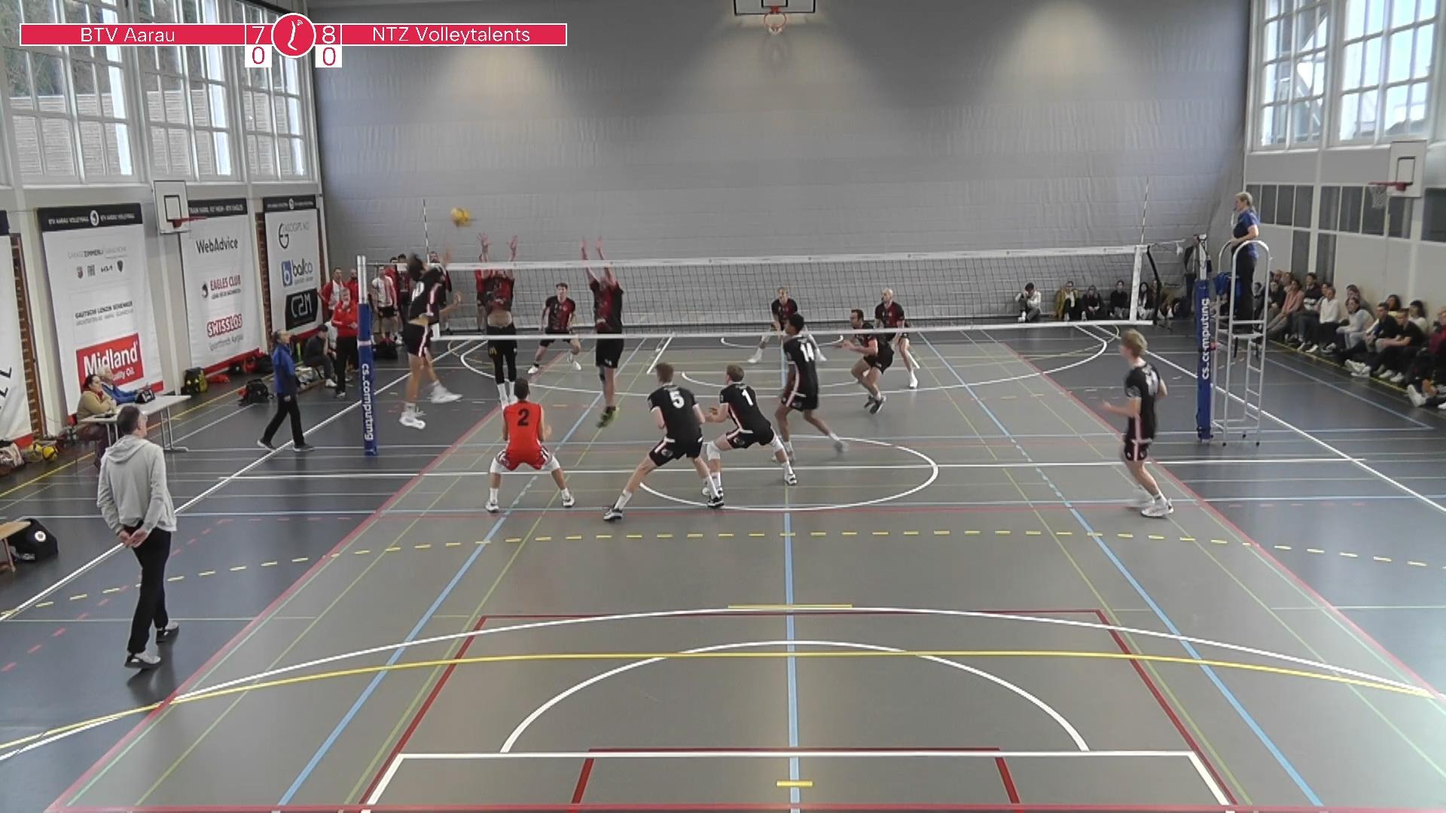attacco: (387, 236, 467, 430)
muro: (579, 237, 626, 431), (477, 231, 524, 422)
